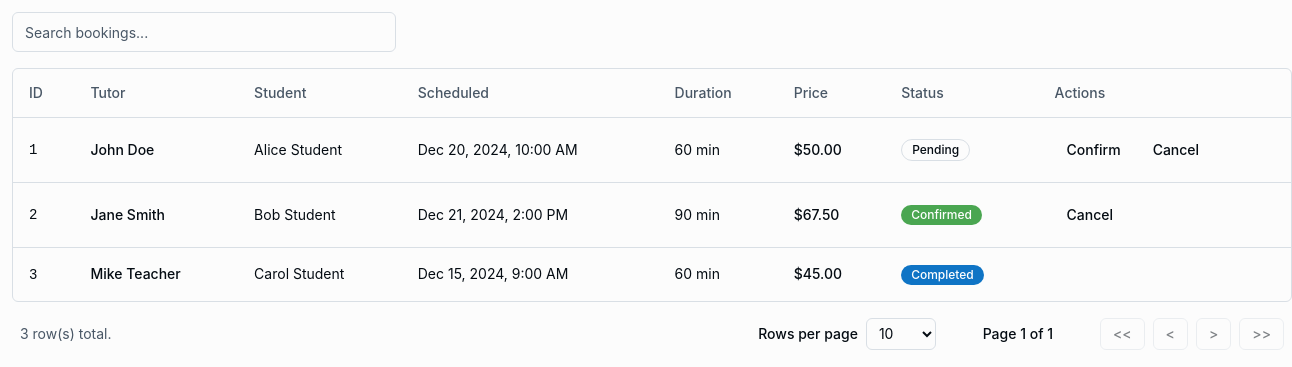
Test case: BookingsTable › search functionality › filters bookings by tutor name
Type "John" into the field with placeholder "Search bookings..." at coordinates (204, 32), box left=12, top=12, right=396, bottom=52
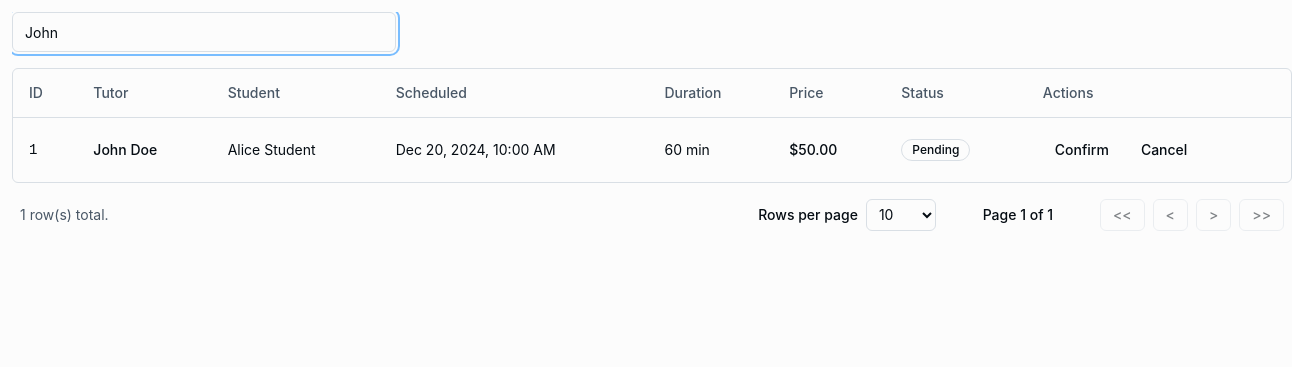
Check: the text "John Doe" is shown, box left=93, top=140, right=157, bottom=158
Check: the text "Jane Smith" is gone
